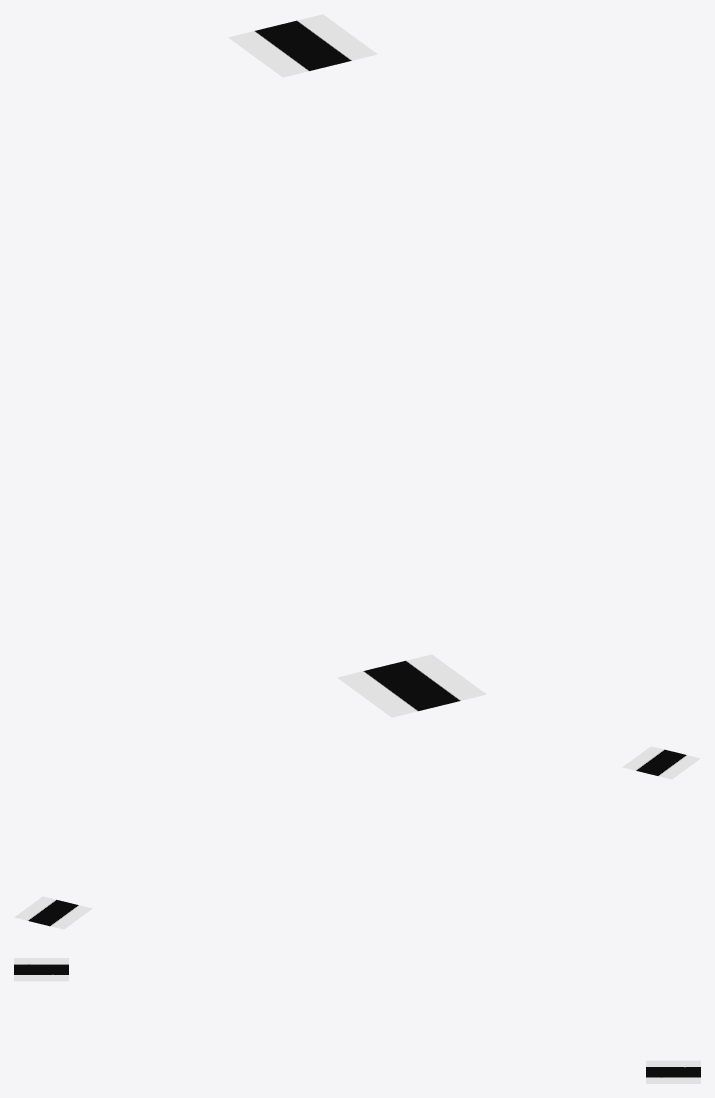
Rendered from Spline Centre Phase 2.fbx.
3 views of the same model, one above another, from view 1: azimuth 30°, elevation 25°; view 2: azimuth 150°, elevation 25°; view 3: azimuth 270°, elevation 25° (orthographic). The views are drawn at different scales.
Visible parts, largest first — view 1: Whitebox_Quad (3), Whitebox_Quad (2); view 2: Whitebox_Quad (3), Whitebox_Quad (2); view 3: Whitebox_Quad (3), Whitebox_Quad (2).
Part boxes in pixels (x1,y1,x2,y2): Whitebox_Quad (3): [337, 654, 486, 717]; Whitebox_Quad (2): [228, 14, 377, 77]; Whitebox_Quad (3): [622, 746, 700, 779]; Whitebox_Quad (2): [14, 896, 92, 929]; Whitebox_Quad (3): [14, 958, 68, 981]; Whitebox_Quad (2): [646, 1060, 700, 1083].
Bounding box in the file's own units: 6.5 × 0.5 × 12.51.
